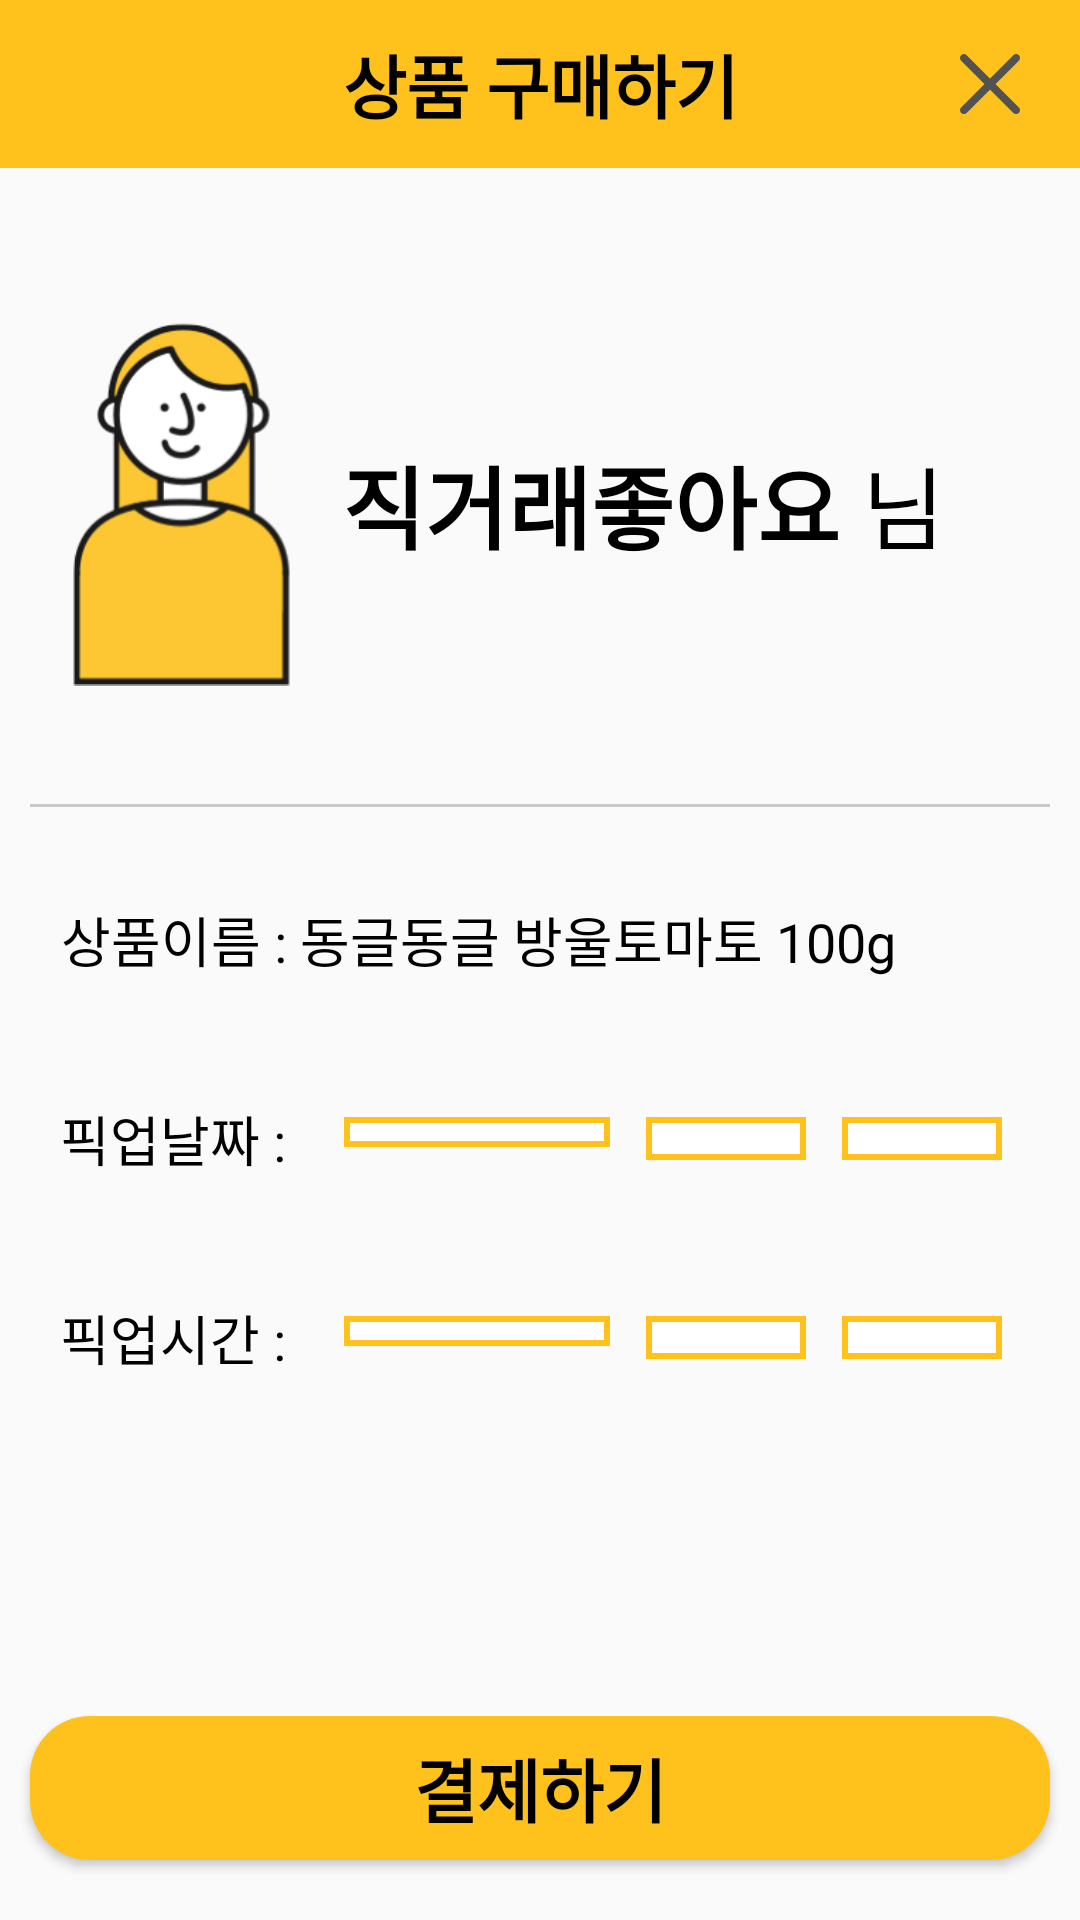

Locate icon controls on the screen. Image size 1080px x 1920px, boxes as (x1, y1, x2, y2).
close: (960, 54, 1020, 114)
